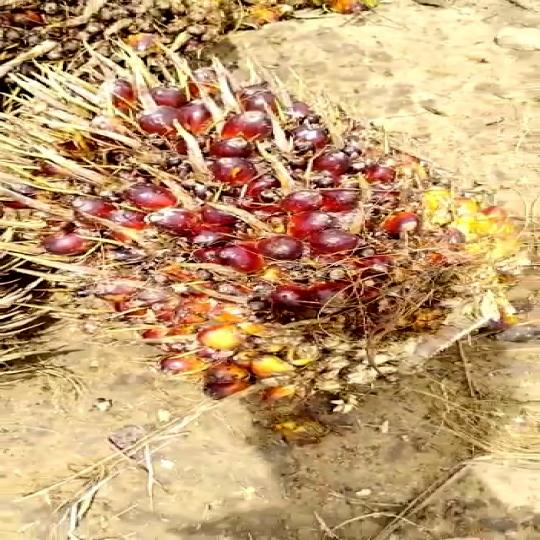kurang masak: (5, 47, 536, 432)
